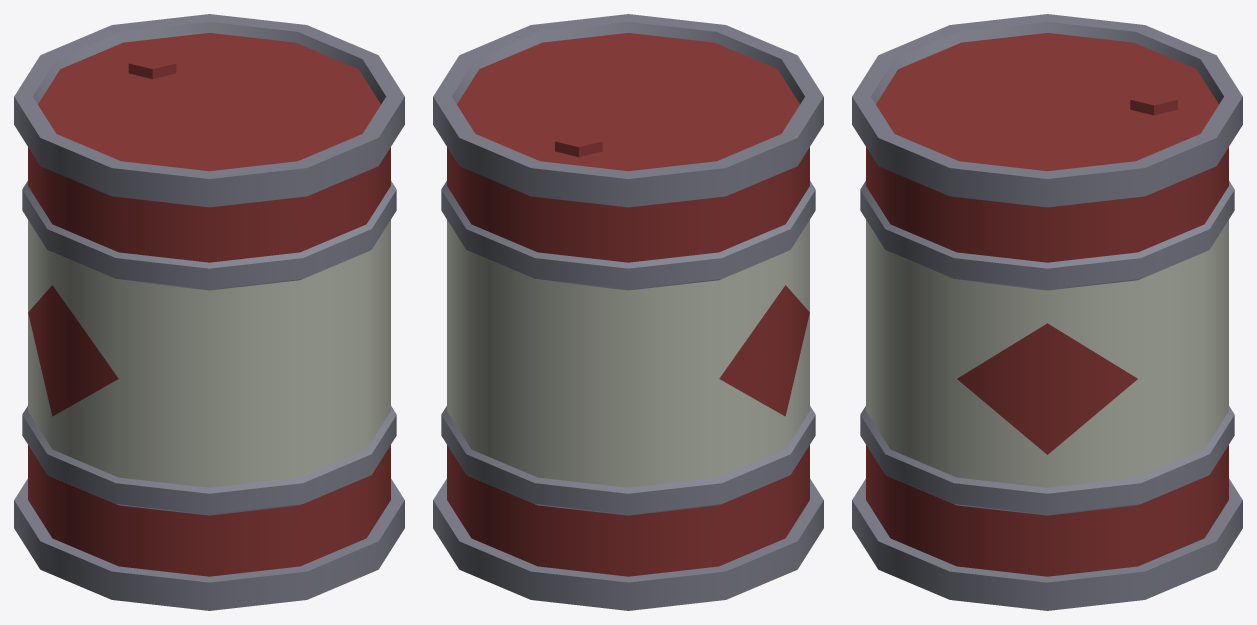
The model's file is barrel.glb.
3 views of the same model, side by side, from view 1: azimuth 30°, elevation 25°; view 2: azimuth 150°, elevation 25°; view 3: azimuth 270°, elevation 25° (orthographic).
Parts seen in each view (by area): view 1: ExplodingBarrel; view 2: ExplodingBarrel; view 3: ExplodingBarrel.
Boxes of the visible parts, <box> form: ExplodingBarrel: <box>14,14,404,610</box>; ExplodingBarrel: <box>433,14,823,610</box>; ExplodingBarrel: <box>852,14,1242,610</box>.
Bounding box in the file's own units: 0.9001 × 1.1 × 0.9001.
Materials: 1 (1 with a texture image).
